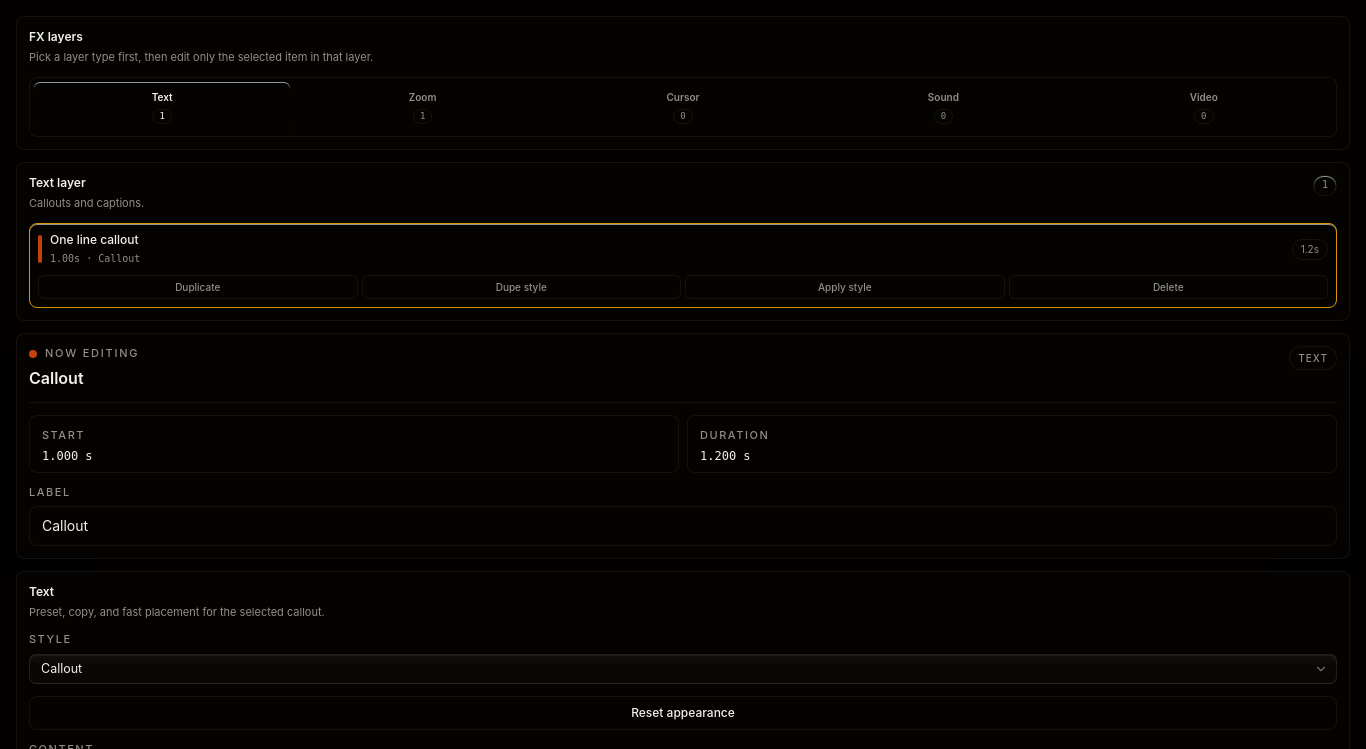
Test: EffectParams › switches FX layer tabs and selects the first clip in that layer
Click the button "Zoom 1" at (423,107), box [294,82,551,132]
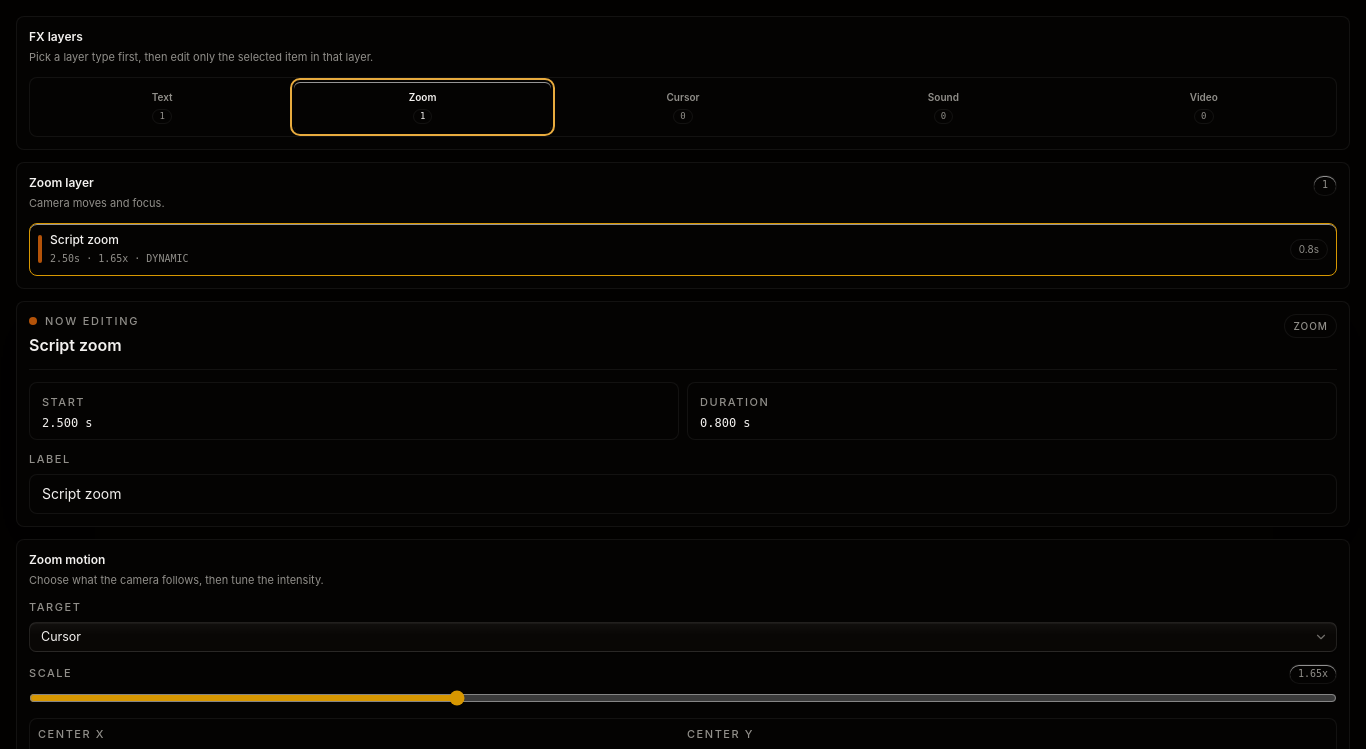
Now the slider named "Zoom scale" is shown, box [29,690,1337,706]
Click the button "Text 1" at (162,107), box [34,82,290,132]
(page scrolled)
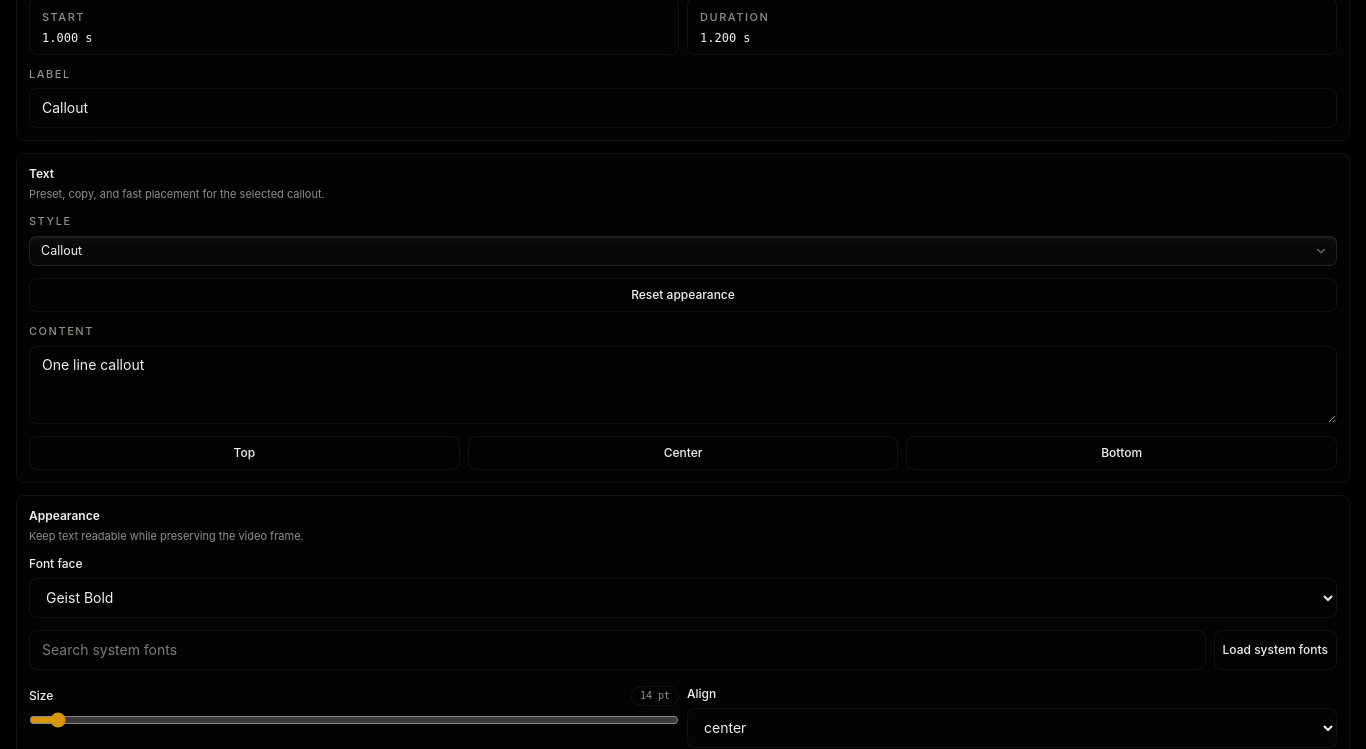
Now the text box named "Annotation text" is shown, box [29,346,1337,424]
